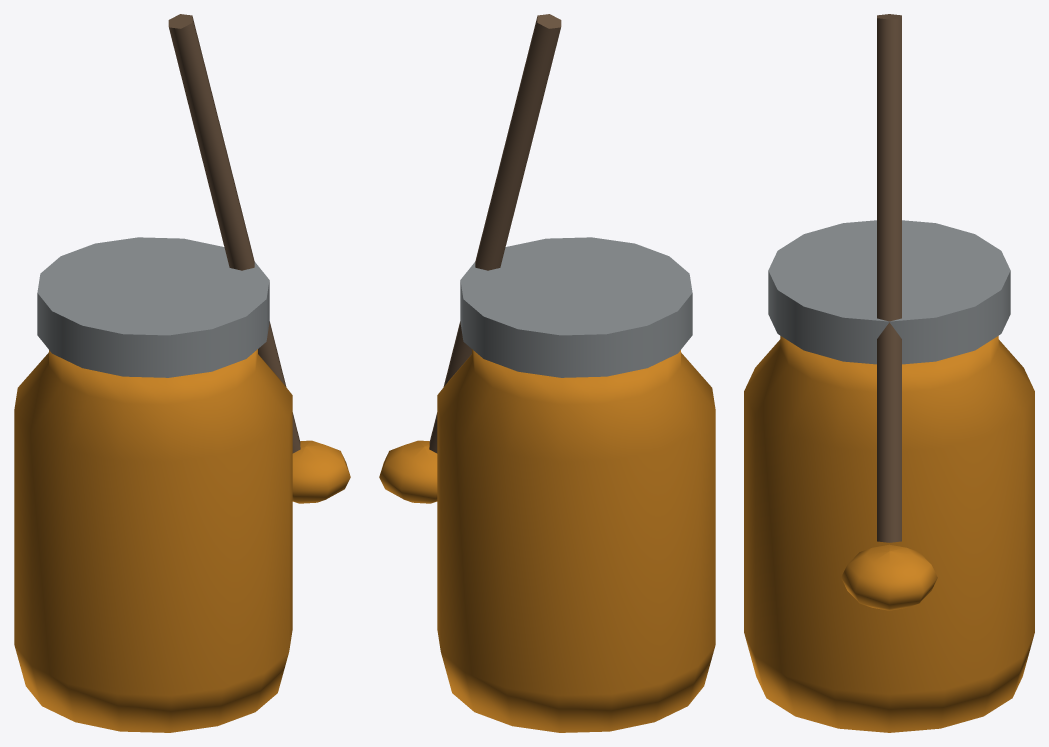
Rendered from Honey_jar.obj.
3 views of the same model, side by side, from view 1: azimuth 30°, elevation 25°; view 2: azimuth 150°, elevation 25°; view 3: azimuth 270°, elevation 25° (orthographic). The views are drawn at different scales.
Visible parts, largest first — view 1: Honey_jar; view 2: Honey_jar; view 3: Honey_jar.
Boxes of the visible parts, box(x1,y1,x2,y2) form: Honey_jar: box(14, 14, 350, 732); Honey_jar: box(379, 14, 715, 732); Honey_jar: box(744, 14, 1034, 732).
Size of the model in its own units: 0.155 by 0.3082 by 0.12.
